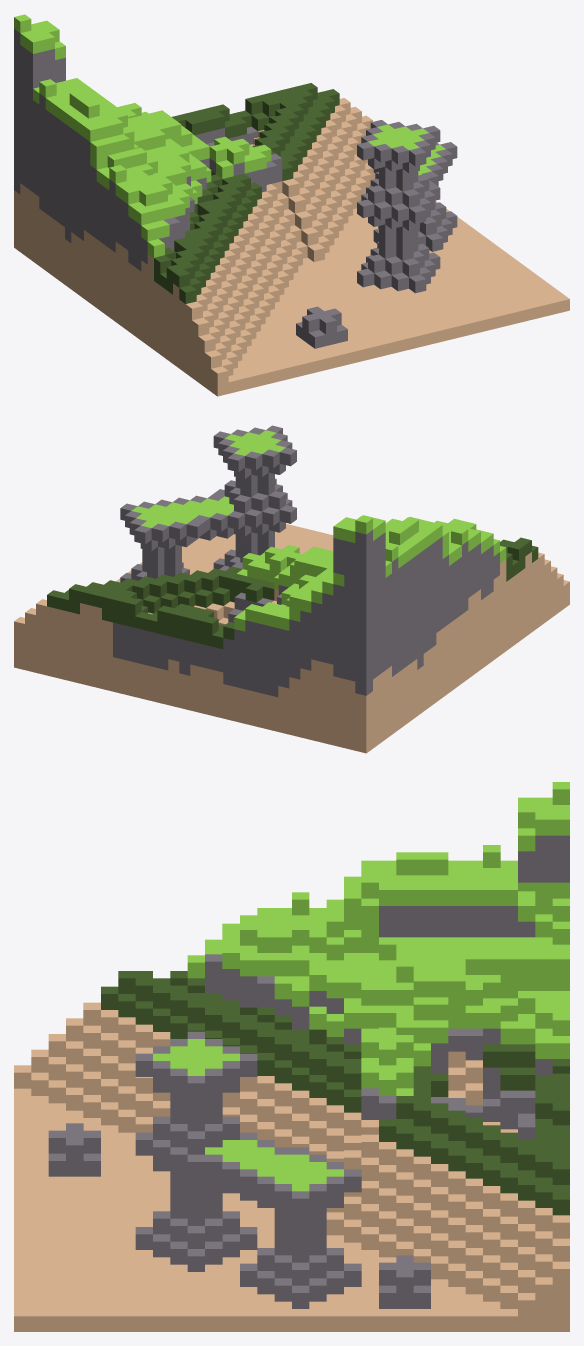
The model's file is the_isle.gltf.
3 views of the same model, one above another, from view 1: azimuth 30°, elevation 25°; view 2: azimuth 150°, elevation 25°; view 3: azimuth 270°, elevation 25° (orthographic). The views are drawn at different scales.
Bounding box in the file's own units: 32 × 20 × 32.
Materials: 1 (1 with a texture image).
